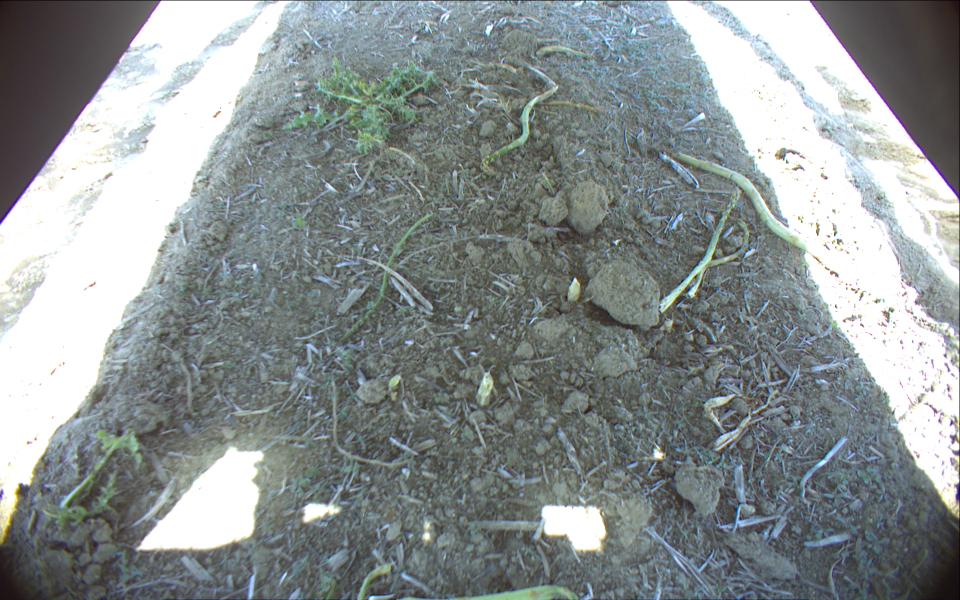aspa: (671, 148, 808, 251), (337, 213, 436, 346), (658, 218, 750, 312), (483, 83, 557, 166), (691, 187, 739, 300), (397, 584, 581, 599), (497, 97, 605, 113), (355, 563, 392, 600), (534, 44, 603, 58), (476, 372, 493, 408), (568, 277, 581, 301)
